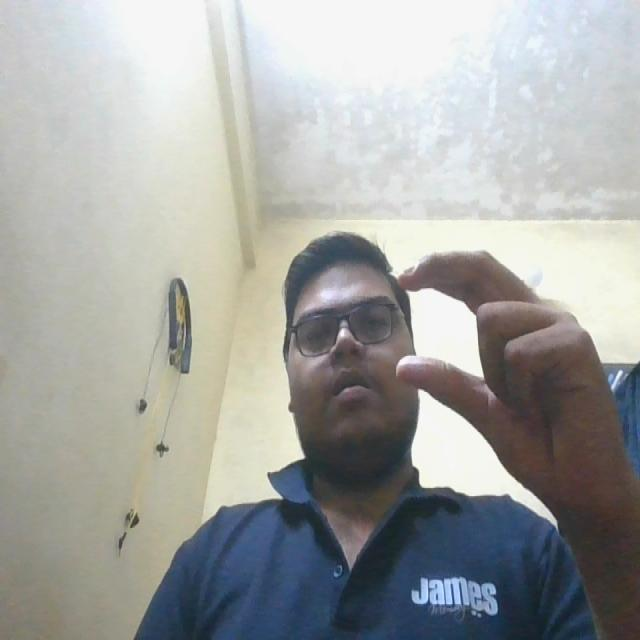No: (385, 231, 630, 500)
